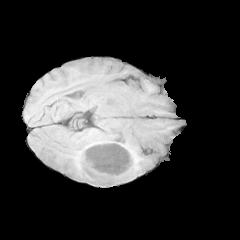glioma: (77, 140, 134, 186)
